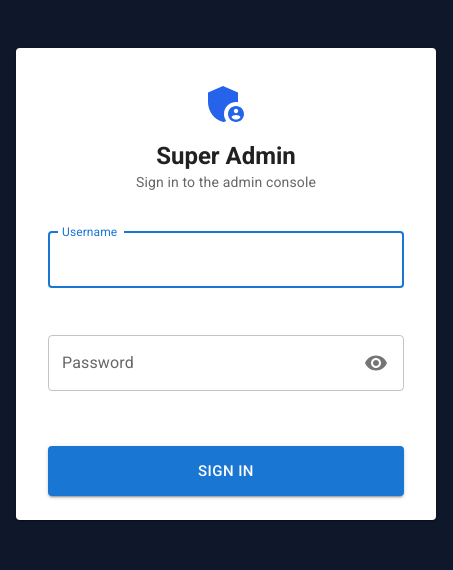
Test: AdminLogin › shows validation error when password is empty
Type "admin" into the field named "username" at (226, 260), box [48,232,404,288]
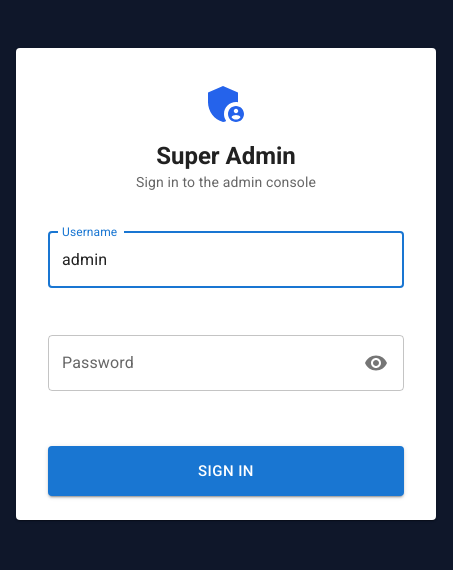
Click the button "Sign In" at (226, 471), box [48,446,404,496]
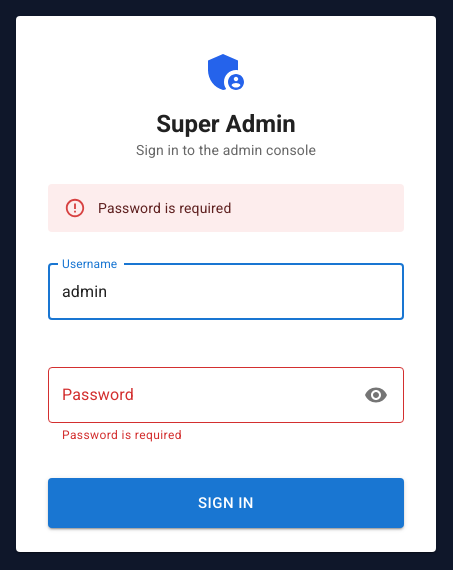
Now the 1st text "Password is required" is shown, box [98,200,232,216]
